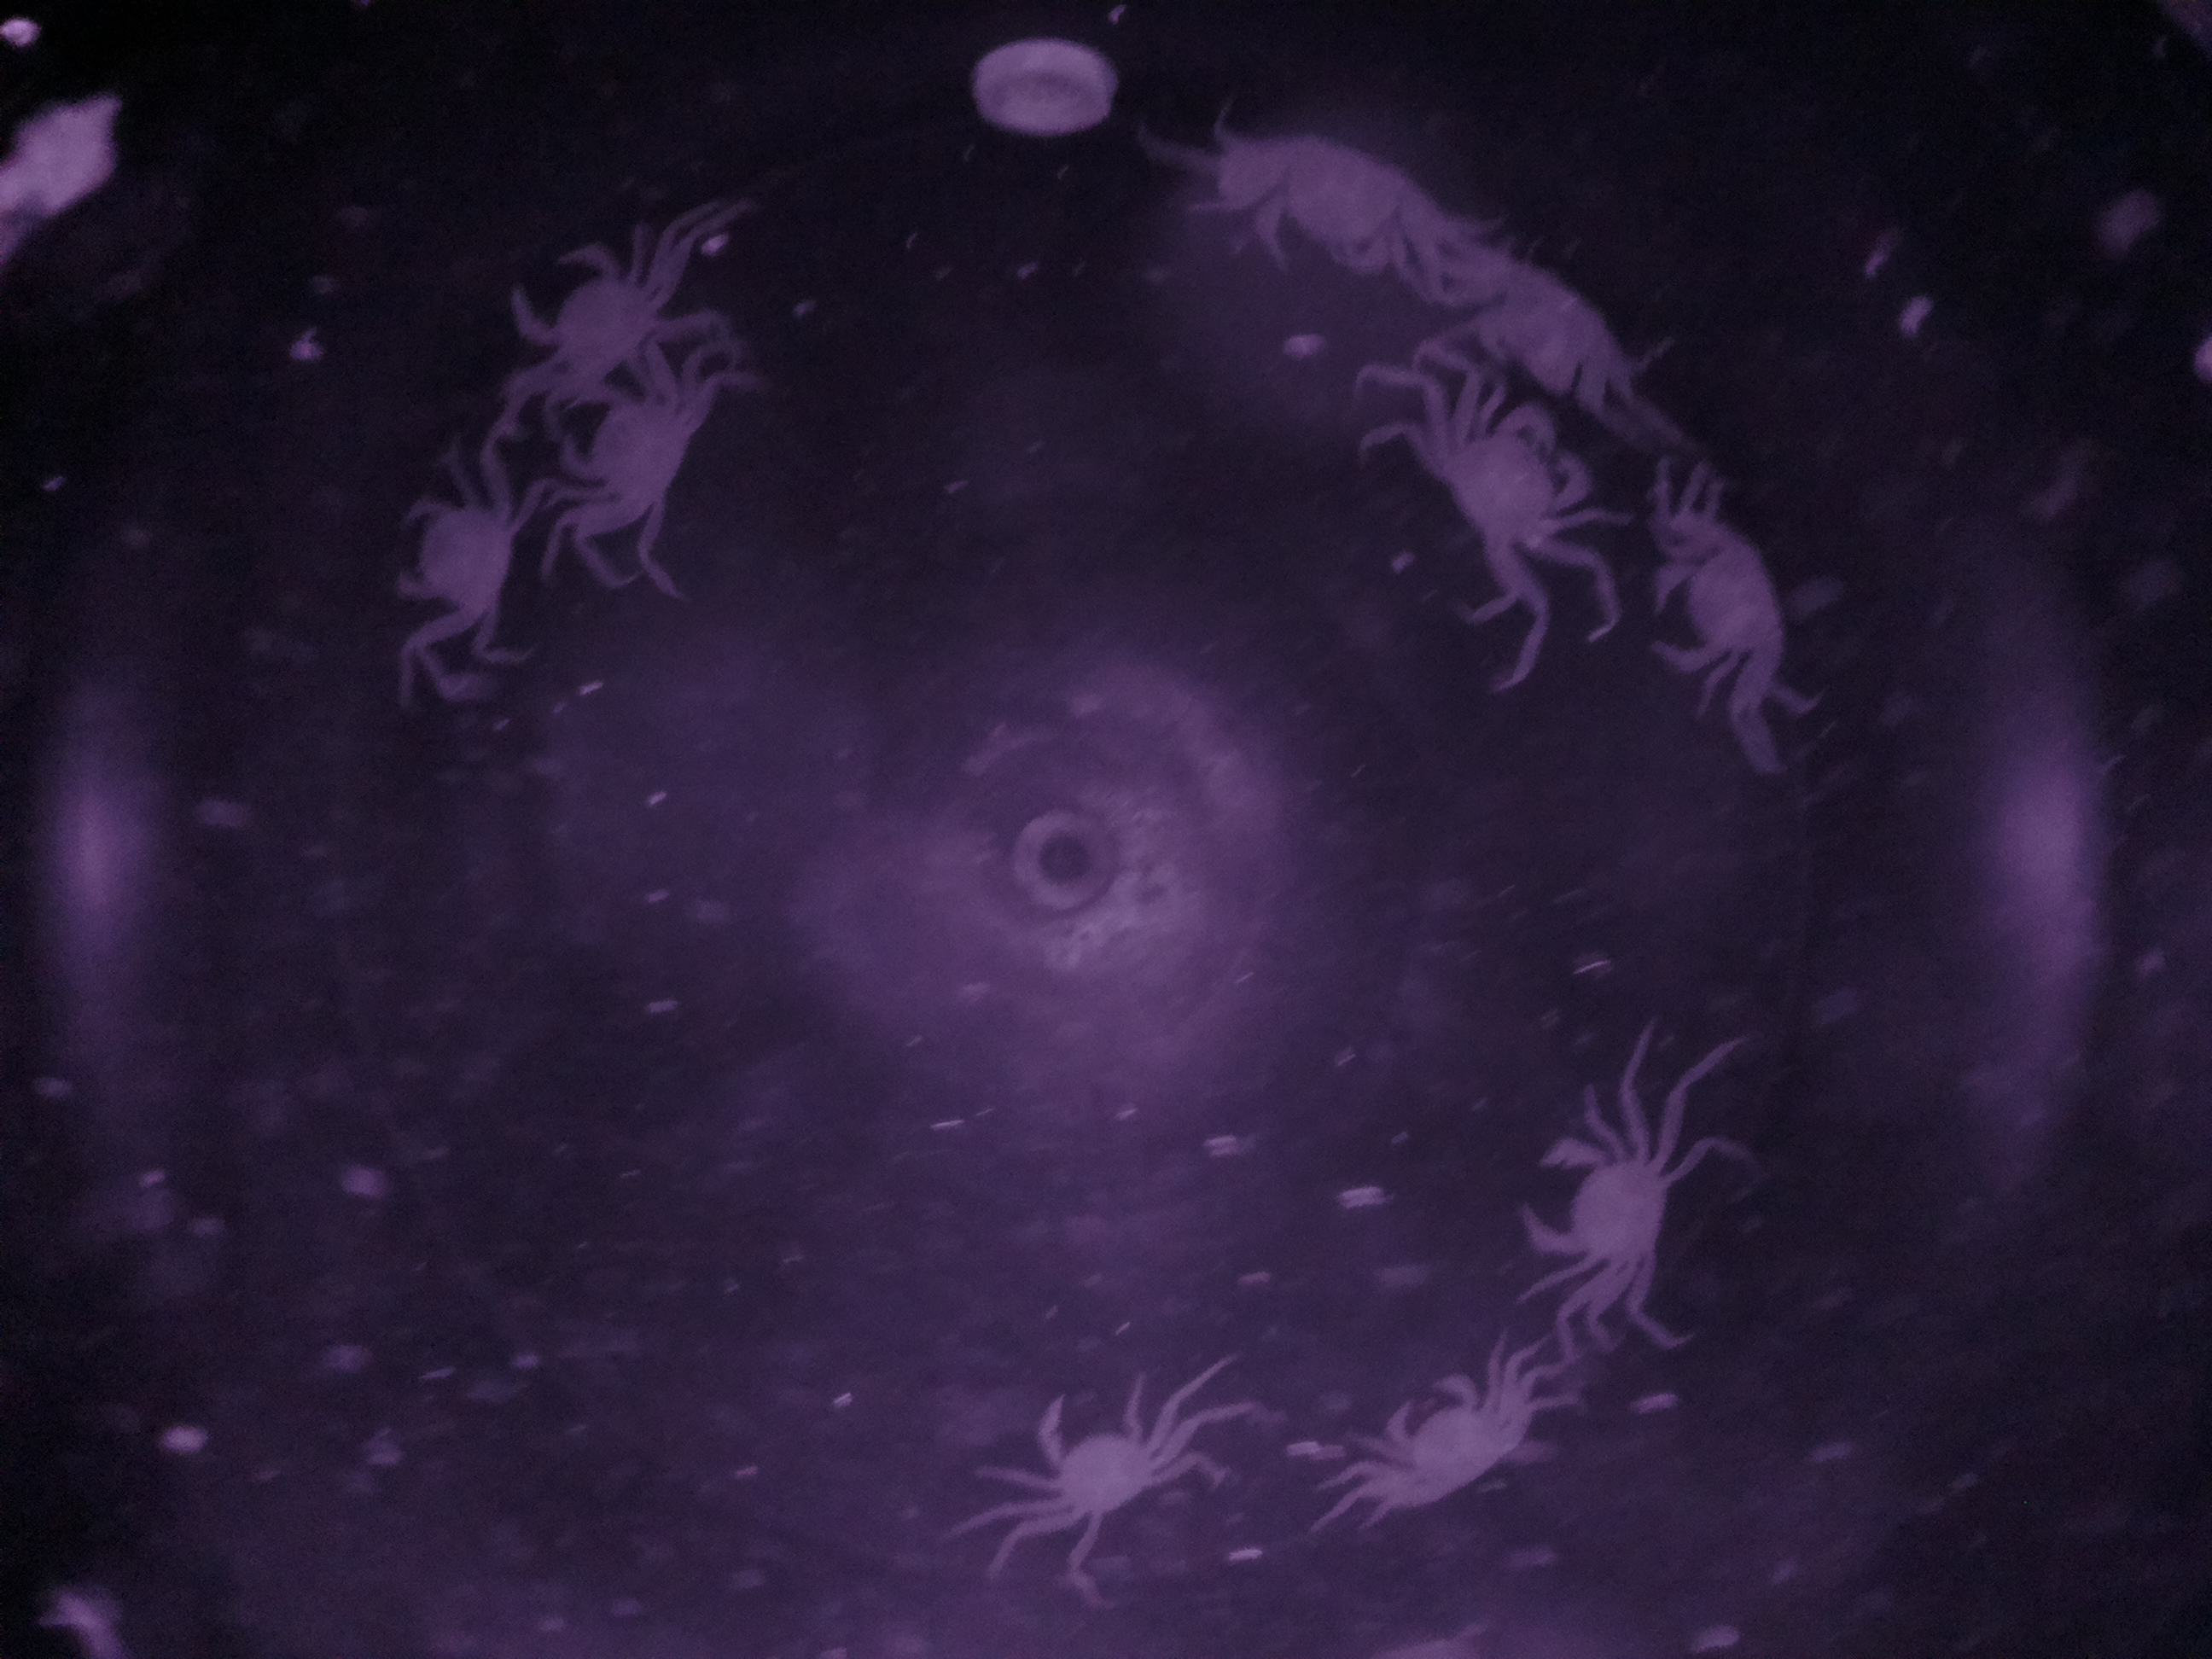Crab: (1503, 1110, 1714, 1295), (1411, 390, 1602, 586), (1625, 512, 1817, 706), (1348, 1356, 1543, 1523)
